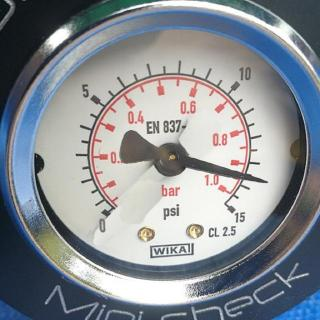gauge: (0, 0, 320, 320), (152, 140, 188, 176), (95, 195, 126, 227), (217, 194, 247, 226), (256, 175, 272, 188)
